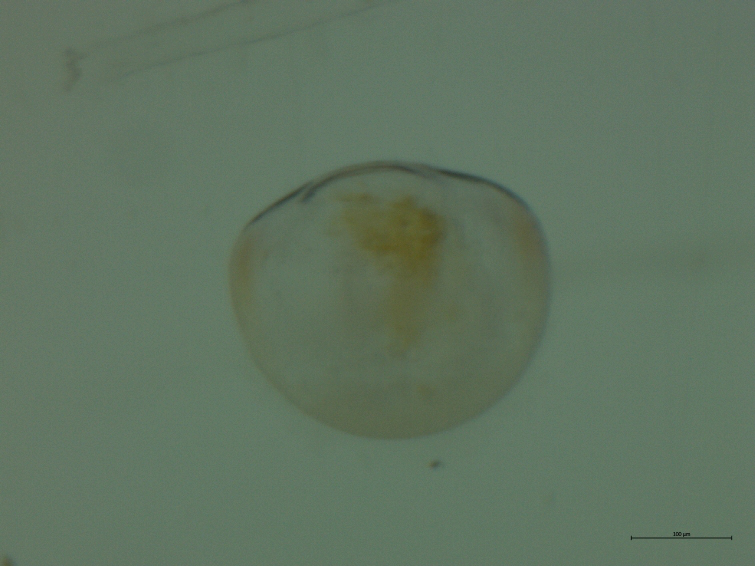oyster: (218, 152, 567, 446)
